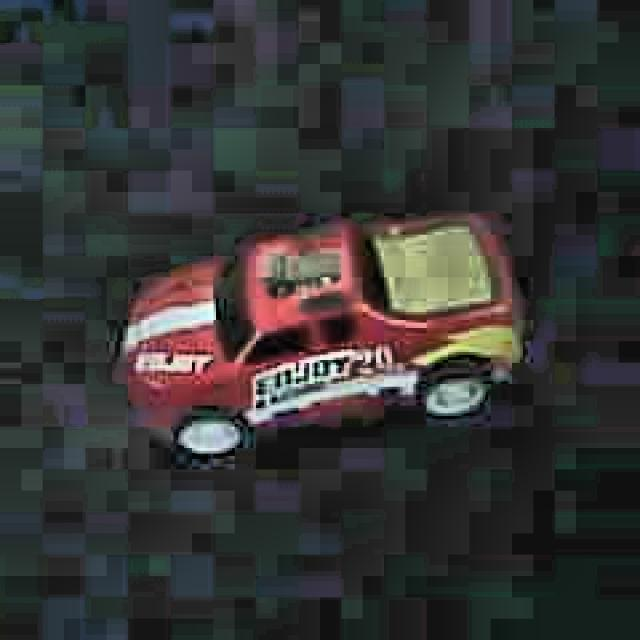car: (108, 206, 529, 467)
